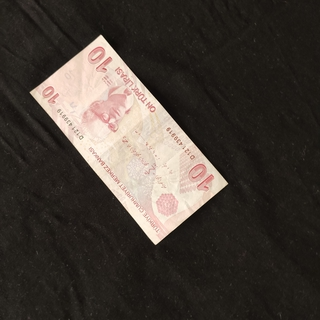10TLBack: (28, 32, 231, 247)
